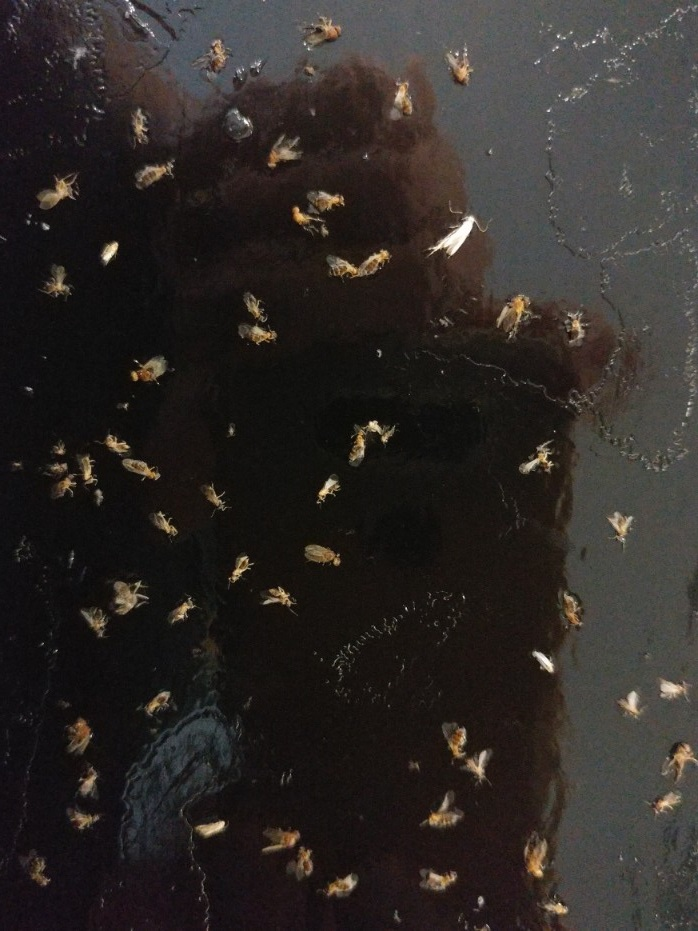fly: (303, 12, 350, 55)
